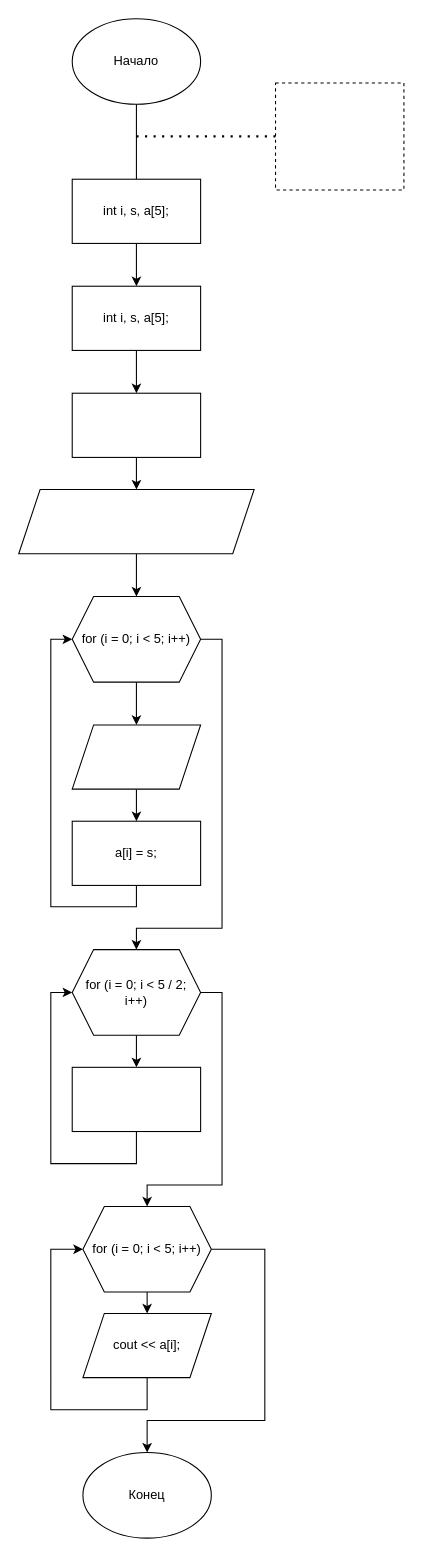
Some shapes in this 423 by 1557 pixel diagram are drawn without their labels. The centre of each missing label's shape, as x and y in pixels:
#include<iostream> using namespace std; int main(){ setlocale(LC_ALL, "rus"); }: point 339,136
bool vozrastaut = true;: point 136,424
cin >> s;: point 136,756
cout << "Введите 5 элементов массива: ";: point 136,521
s = a[i]; a[i] = a[5 - i - 1]; a[5 - i - 1] = s;: point 136,1099
